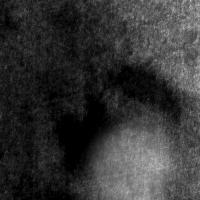patches: (111, 92, 200, 196), (84, 119, 174, 200), (48, 83, 119, 178), (99, 56, 183, 127)
